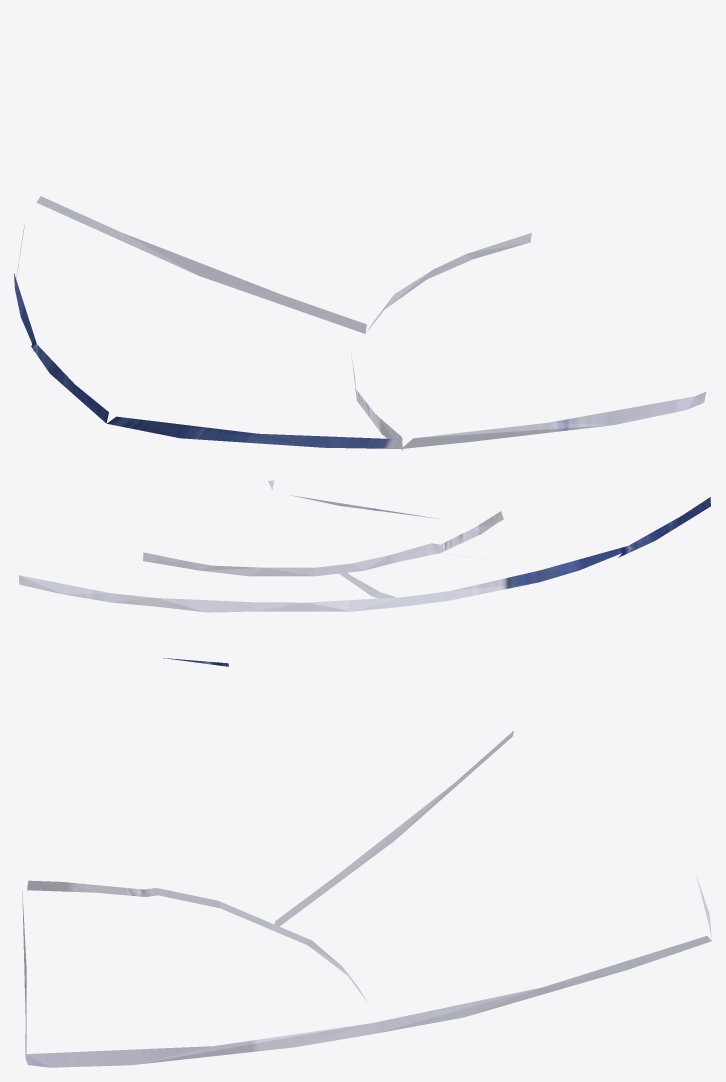
3 renders of one model, top to bottom at view 1: azimuth 30°, elevation 25°; view 2: azimuth 150°, elevation 25°; view 3: azimuth 270°, elevation 25°, orthographic. The views are drawn at different scales.
Bounding box in the file's own units: 2492237 × 553831 × 2503187.
Materials: 1 (1 with a texture image).
